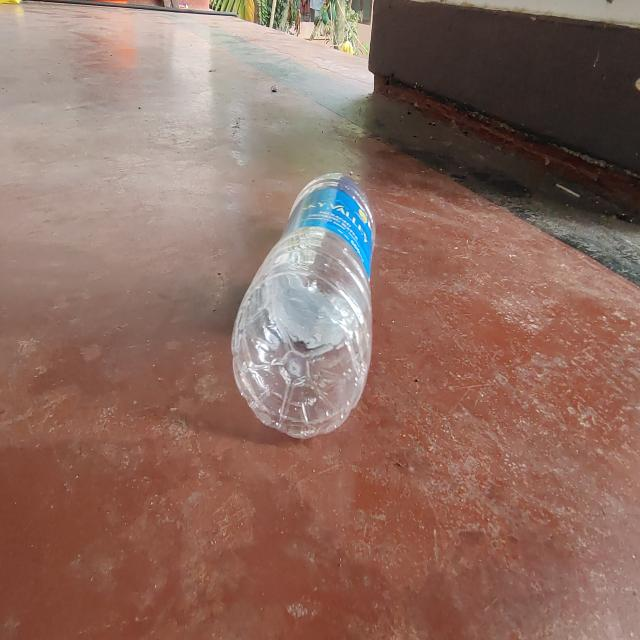plastic: (228, 170, 376, 442)
